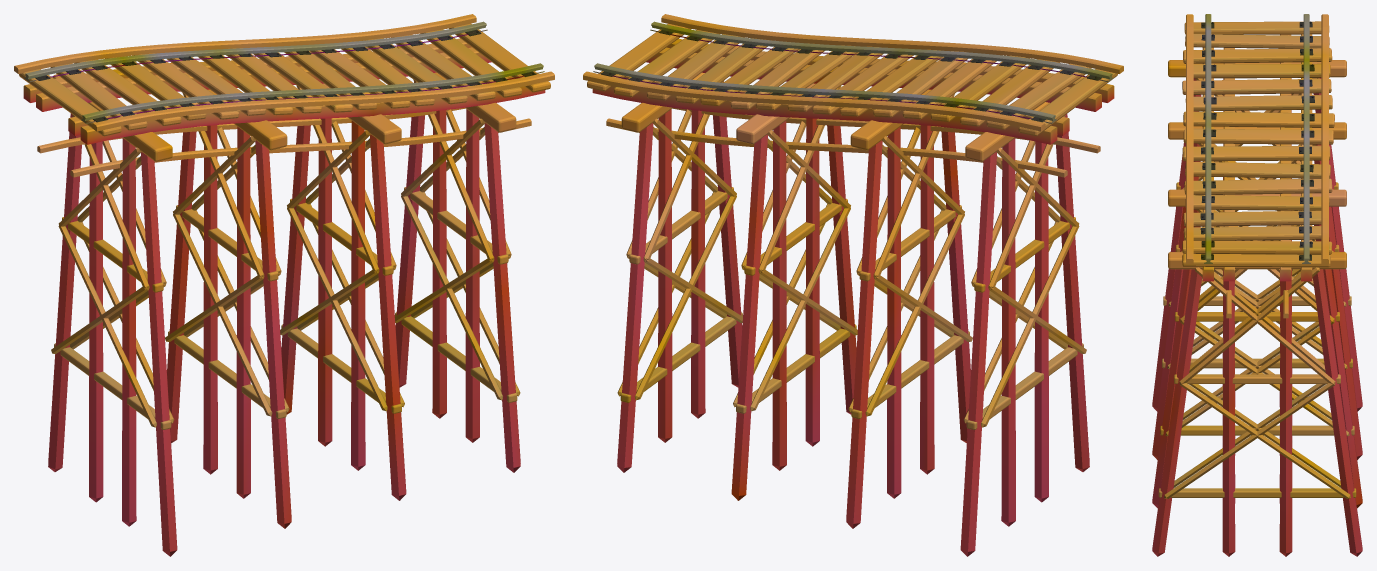
Rendered from Track_Ramp_Down_12m.glb.
3 views of the same model, side by side, from view 1: azimuth 30°, elevation 25°; view 2: azimuth 150°, elevation 25°; view 3: azimuth 270°, elevation 25° (orthographic). The views are drawn at different scales.
Parts seen in each view (by area): view 1: Track_Ramp_Down_12m; view 2: Track_Ramp_Down_12m; view 3: Track_Ramp_Down_12m.
Part boxes in pixels (x1,y1,x2,y2): Track_Ramp_Down_12m: (14, 14, 554, 556); Track_Ramp_Down_12m: (583, 14, 1123, 556); Track_Ramp_Down_12m: (1152, 14, 1362, 556).
Size of the model in its own units: 12 by 10.85 by 5.53.
